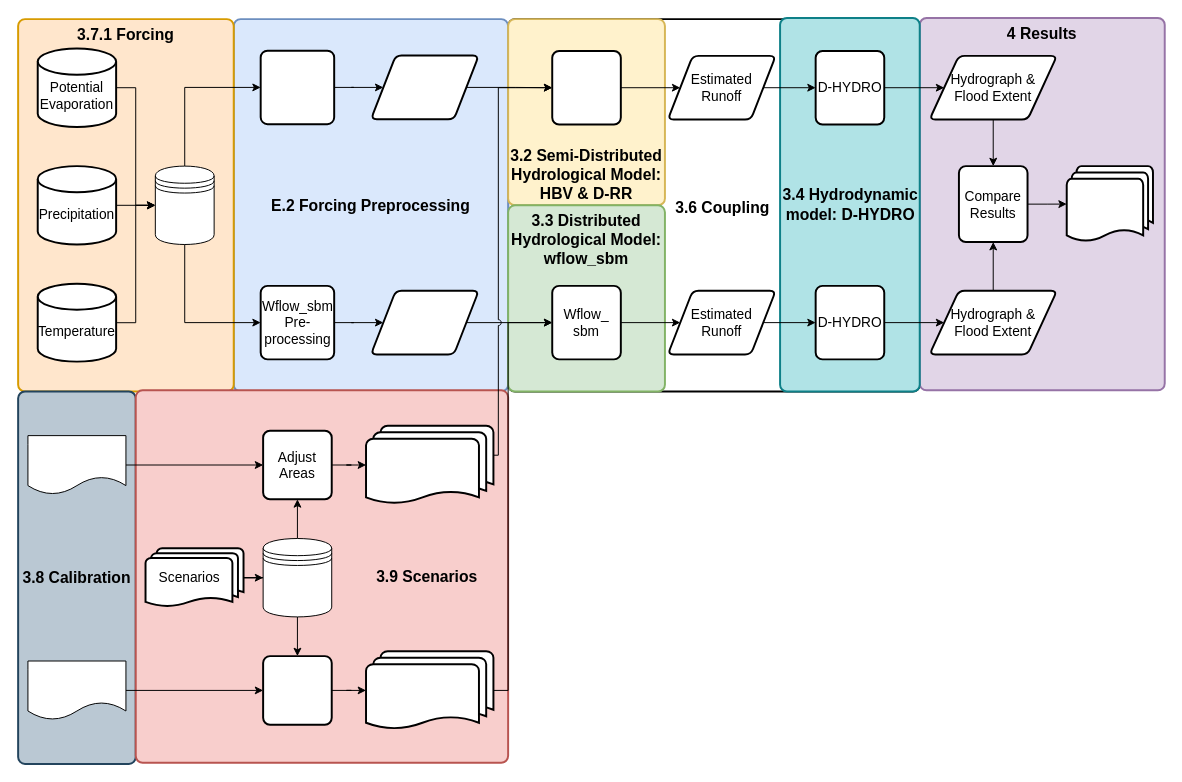
This 1182x782 diagram has some shape labels left out. Here are the shapes that lost their labels. From the top down, the centre of each, then its label:
(297,87): HBV & D-RR Pre-processing
(424,87): HBV forcing
(586,87): HBV & D-RR
(184,205): Forcing
(1109,204): Results
(424,322): Wflow_sbm forcing
(76,464): HBV & D-RR Parameterset
(429,464): HBV & D-RR Scenario Specific Parameters
(297,577): Land Use Dataset
(76,690): Wflow_sbm Parameterset
(297,690): HydroMT
(429,690): Wflow_sbm Scenario Specific Parameters
